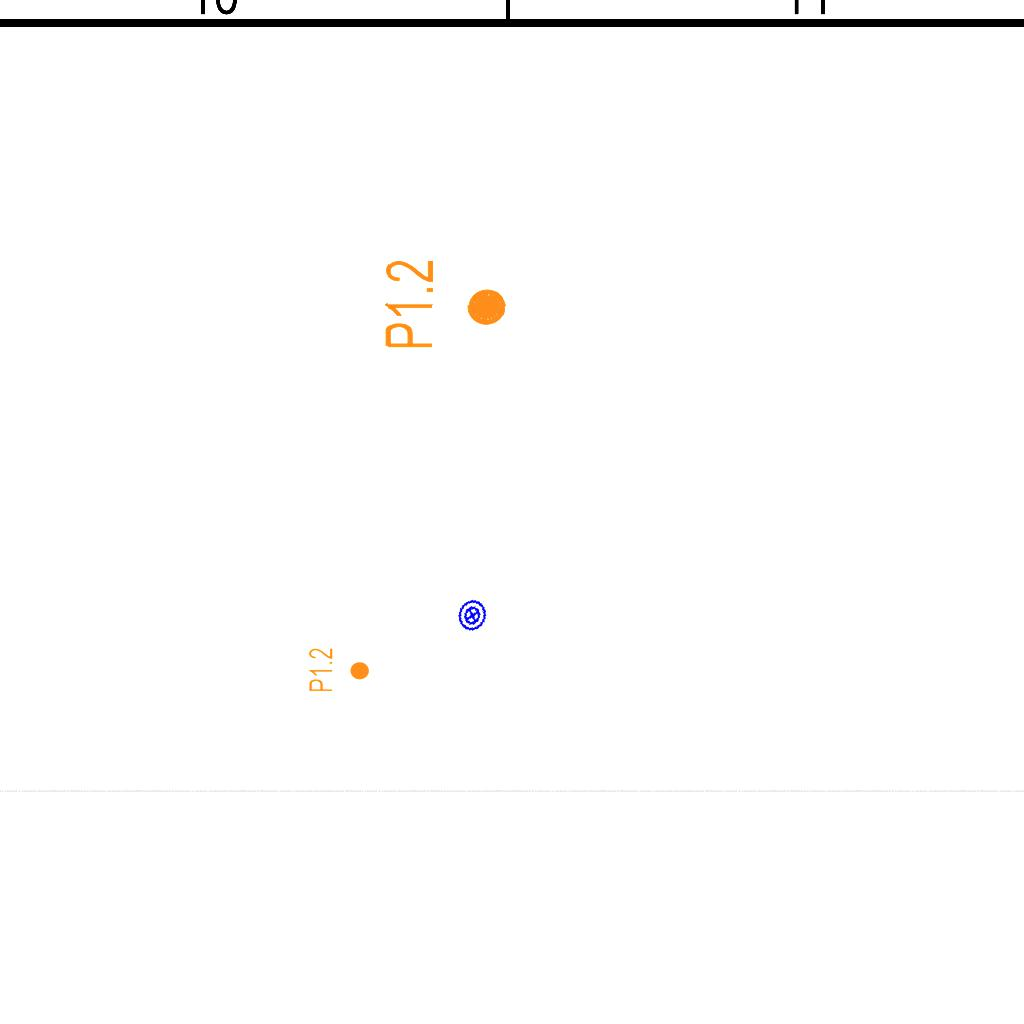Downlight_LED_Einbauleuchten_Flur: (380, 257, 511, 353), (307, 647, 371, 693)
Taster_beleuchtet: (452, 595, 493, 636)
